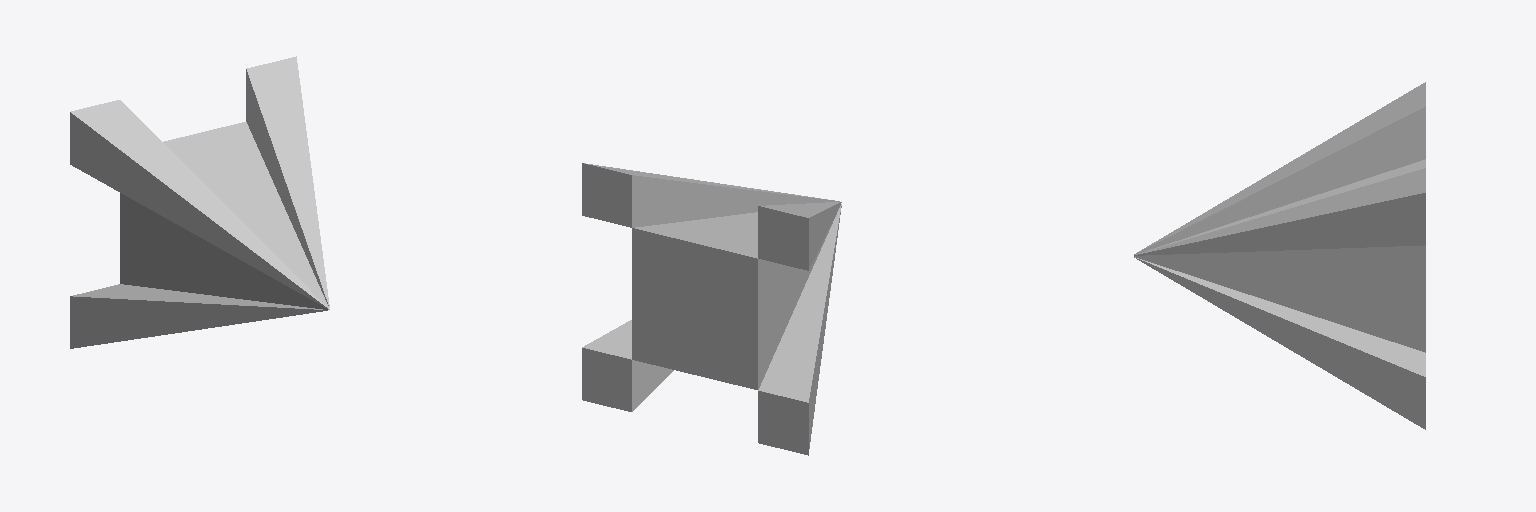
The model's file is Pointer1.obj.
The picture shows the model from 3 angles: view 1: azimuth 30°, elevation 25°; view 2: azimuth 150°, elevation 25°; view 3: azimuth 270°, elevation 25°; orthographic projection.
Visible parts, largest first — view 1: pCube41 Pointer1; view 2: pCube41 Pointer1; view 3: pCube41 Pointer1.
Boxes of the visible parts, x1,y1,x2,y2 form: pCube41 Pointer1: [70, 56, 329, 348]; pCube41 Pointer1: [582, 163, 841, 455]; pCube41 Pointer1: [1134, 82, 1425, 429].
Bounding box in the file's own units: 0.54 × 0.54 × 0.6.